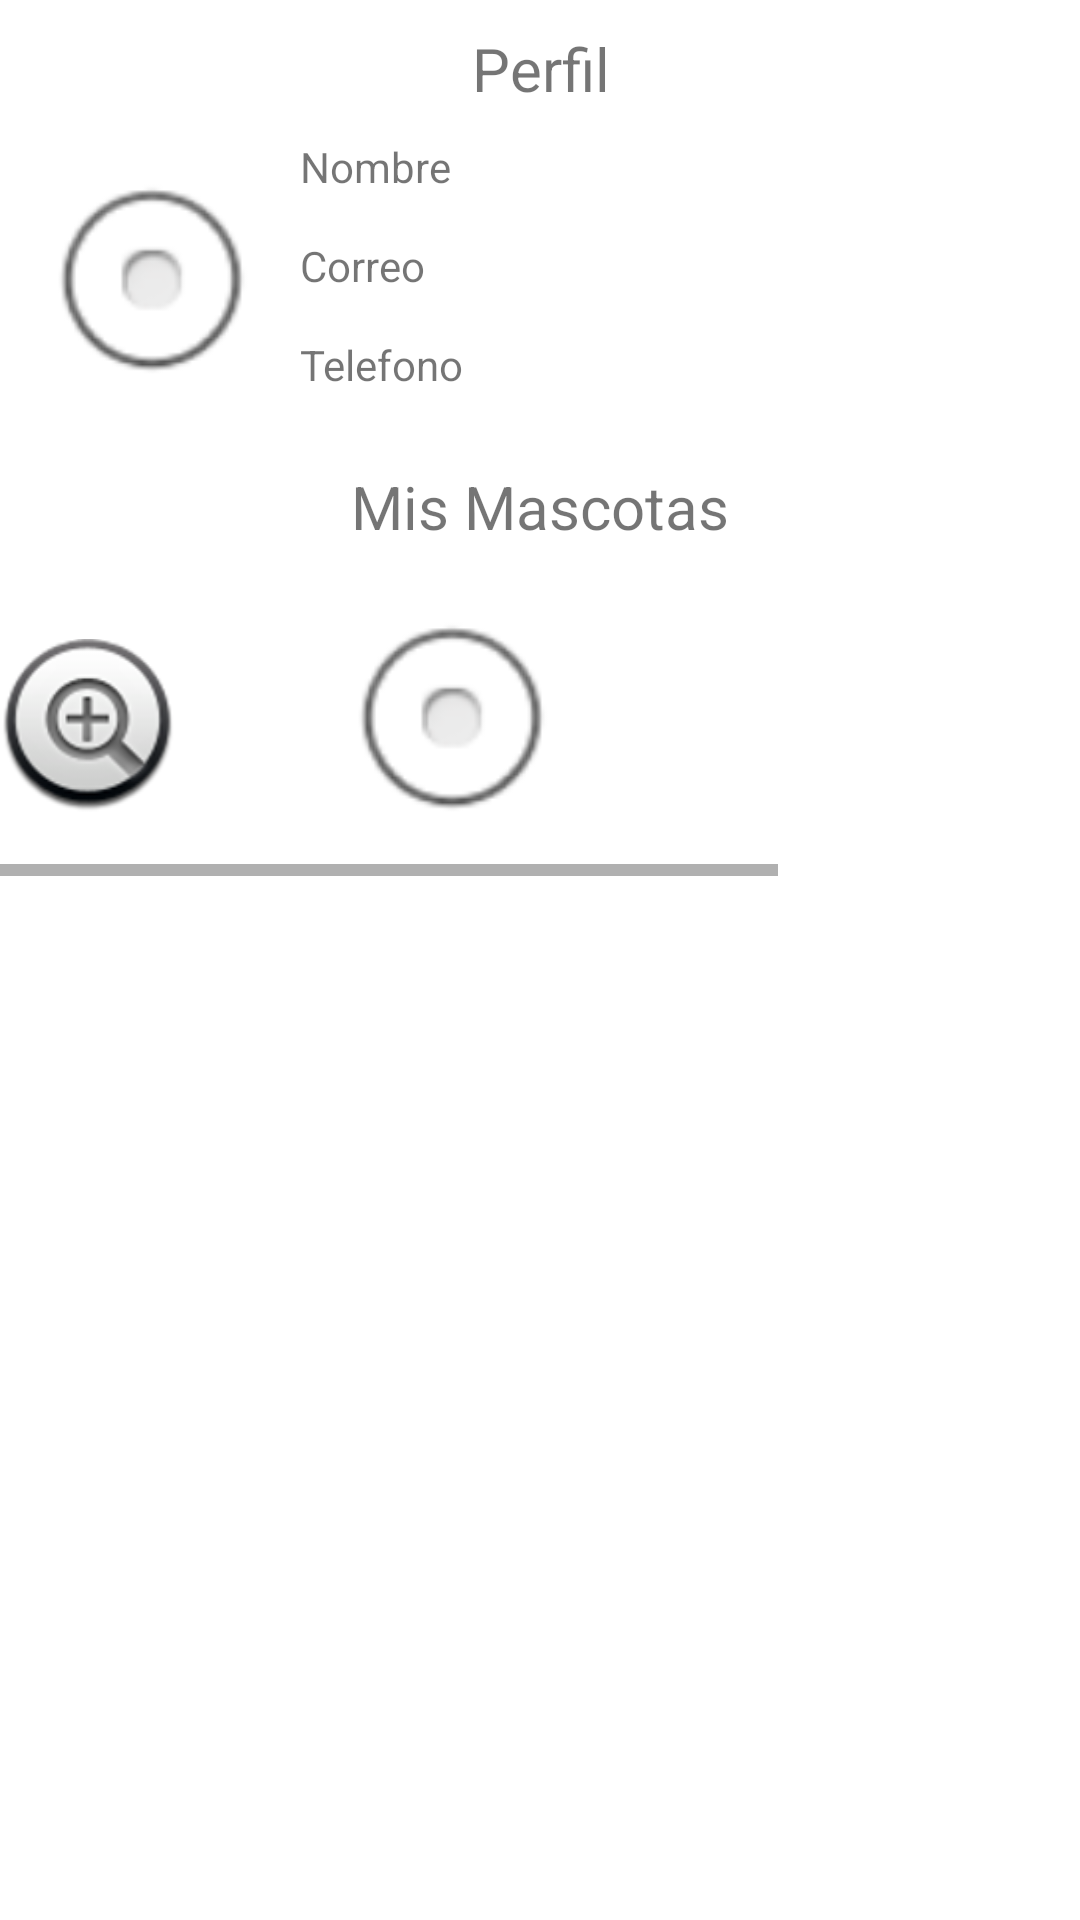

Named icons in this screenshot (1080x1920) and their bounding boxes, (x1, y1, x2, y2):
plus: (4, 639, 172, 809)
radio: (62, 190, 242, 370), (362, 628, 542, 808)
